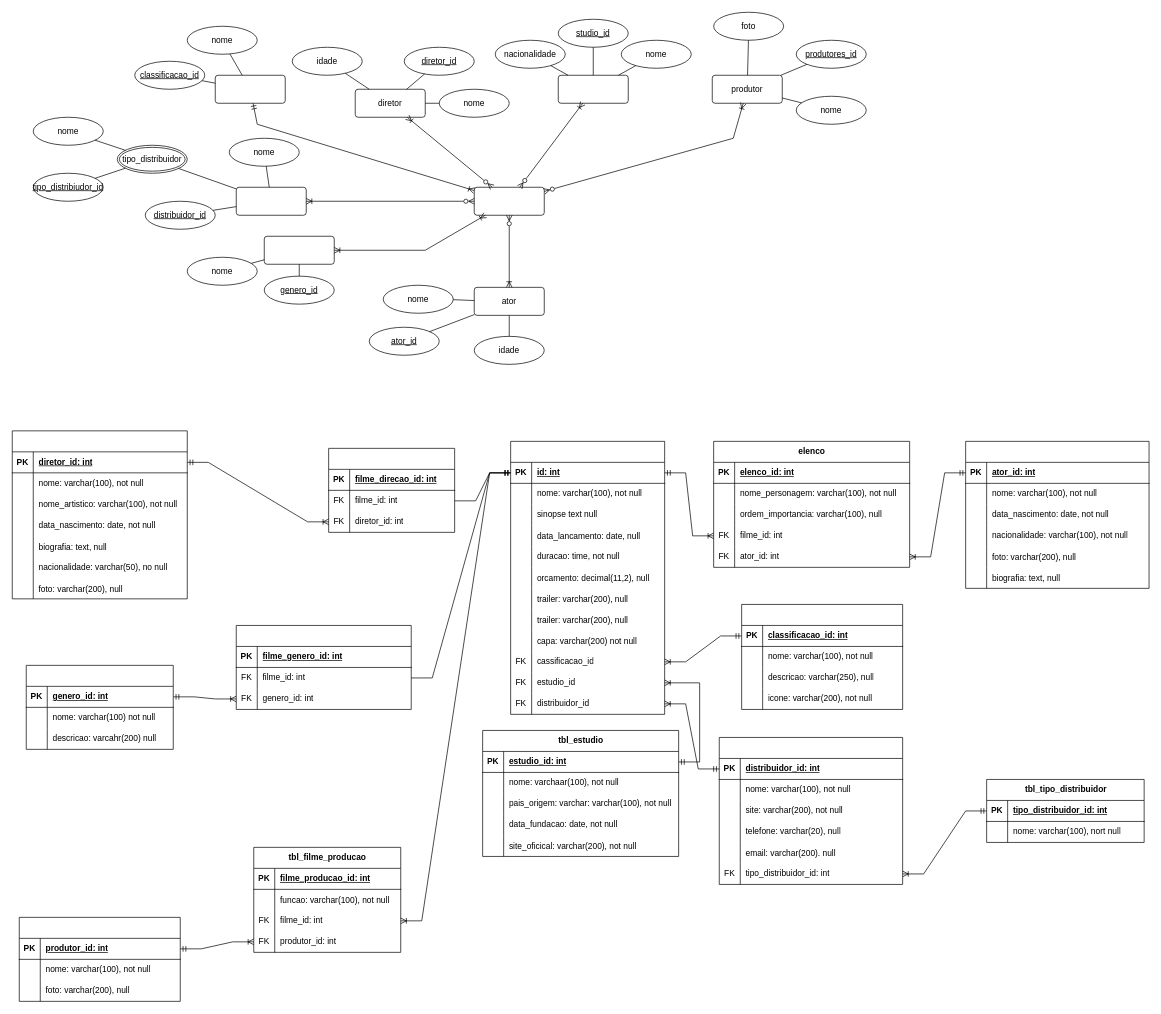
Image size: 1161x1014. Some labels were removed from this diagram. The shapes that lost their labels are listed below. From the top down, each one's box as (x1, y1, x2, y2) in pixels, then its label:
(215, 75, 285, 103): classificacao
(558, 75, 628, 103): estudio
(236, 187, 306, 215): distribuidor
(474, 187, 544, 215): filme
(264, 236, 334, 264): genero
(328, 448, 455, 532): tbl_filme_direcao
(12, 430, 187, 599): tbl_diretor
(965, 441, 1149, 588): tbl_ator
(510, 441, 665, 714): tbl_filme
(236, 625, 411, 709): tbl_filme_genero
(741, 604, 903, 709): tbl_classificacao
(26, 665, 173, 749): tbl_genero
(719, 737, 903, 884): tbl_distribuidor
(19, 917, 180, 1001): tbl_produtor
